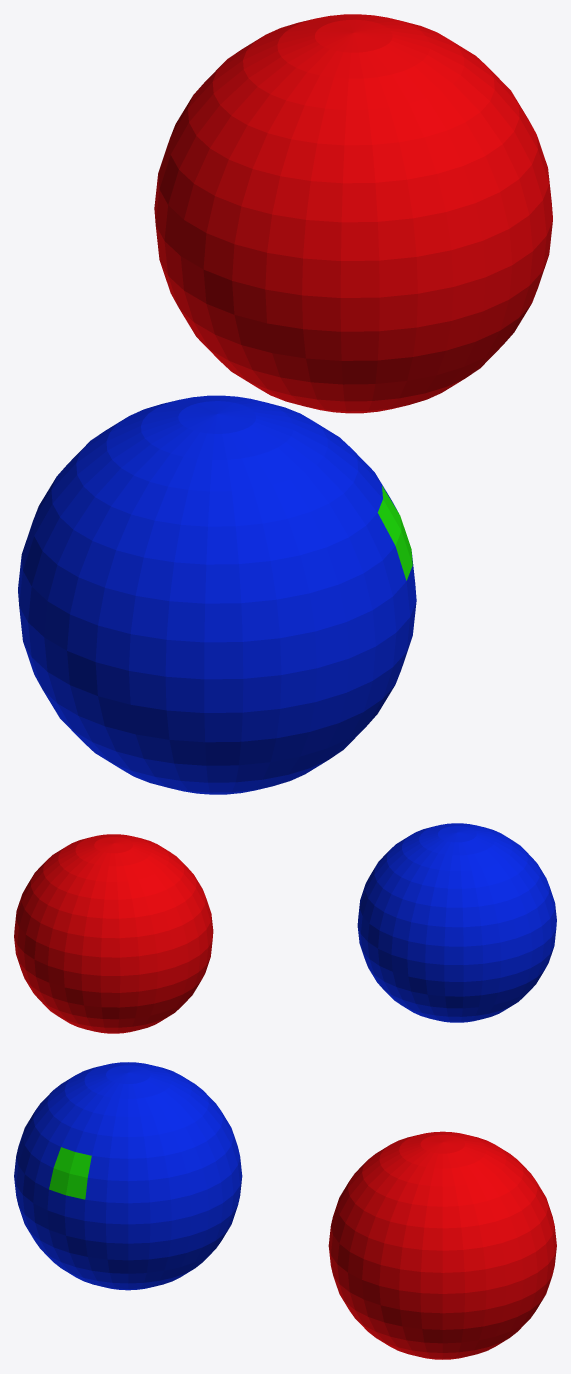
Rendered from Spheress.gltf.
3 renders of one model, top to bottom at view 1: azimuth 30°, elevation 25°; view 2: azimuth 150°, elevation 25°; view 3: azimuth 270°, elevation 25°, orthographic. The views are drawn at different scales.
Visible parts, largest first — view 1: Sphere, Sphere.001; view 2: Sphere.001, Sphere; view 3: Sphere, Sphere.001.
Boxes of the visible parts, x1,y1,x2,y2 form: Sphere: [154, 14, 552, 413]; Sphere.001: [18, 395, 416, 794]; Sphere.001: [357, 823, 556, 1022]; Sphere: [14, 834, 213, 1033]; Sphere: [328, 1131, 556, 1359]; Sphere.001: [14, 1062, 242, 1290].
Size of the model in its own units: 4.38 by 2.44 by 4.76.
